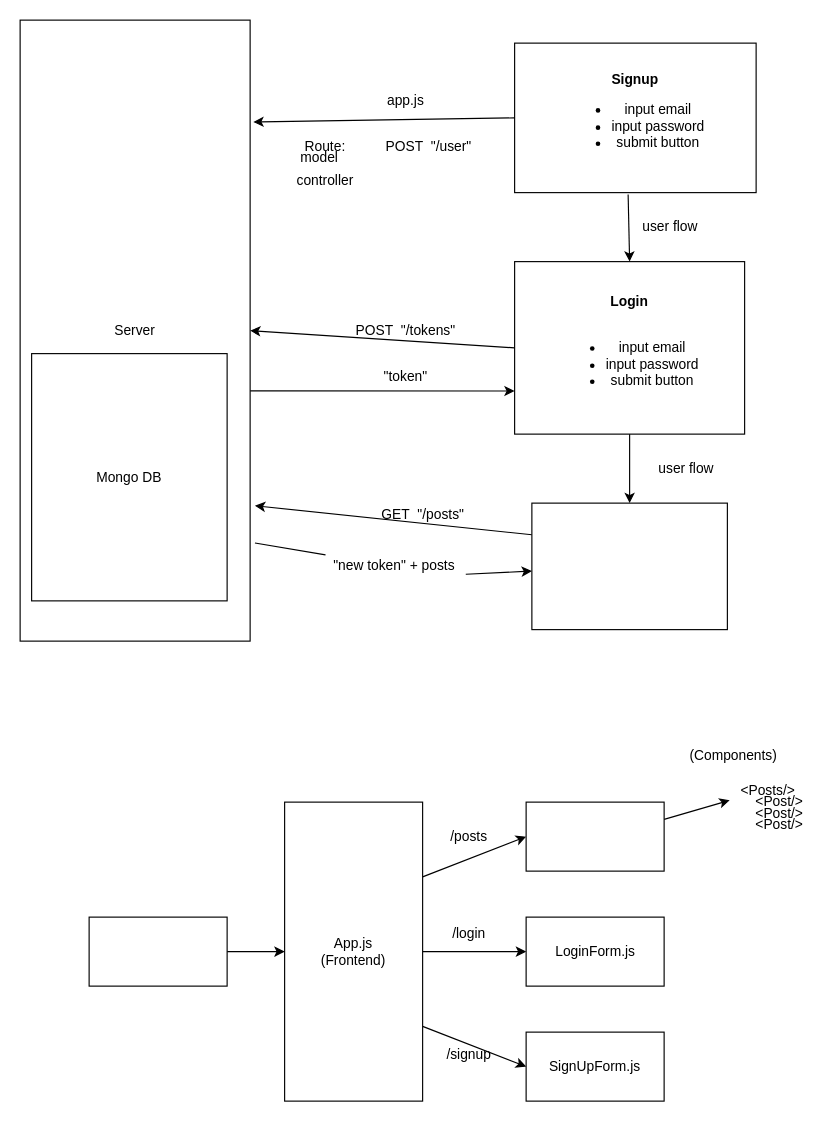
Image size: 834x1121. Some labels were removed from this diagram. Here are the shapes that lost their labels. From the top down, the centre of each, then its label:
[629,566]: Posts Logout button
[594,836]: Feed.js
[157,951]: index.html
